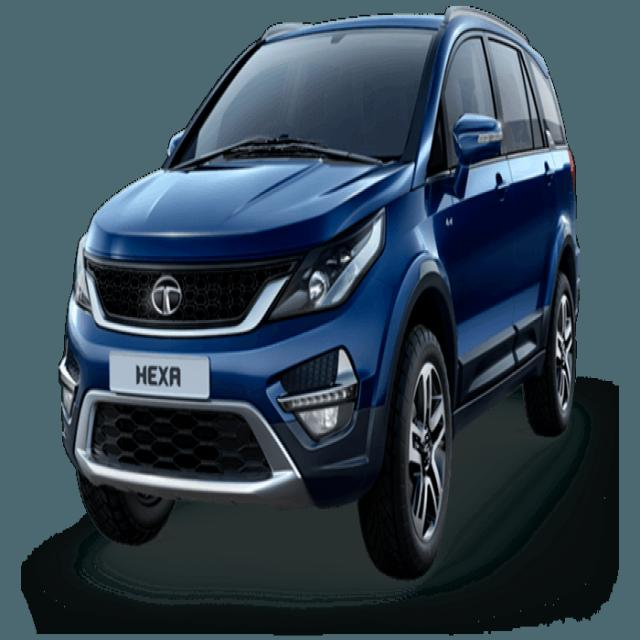Car: (57, 7, 596, 572)
